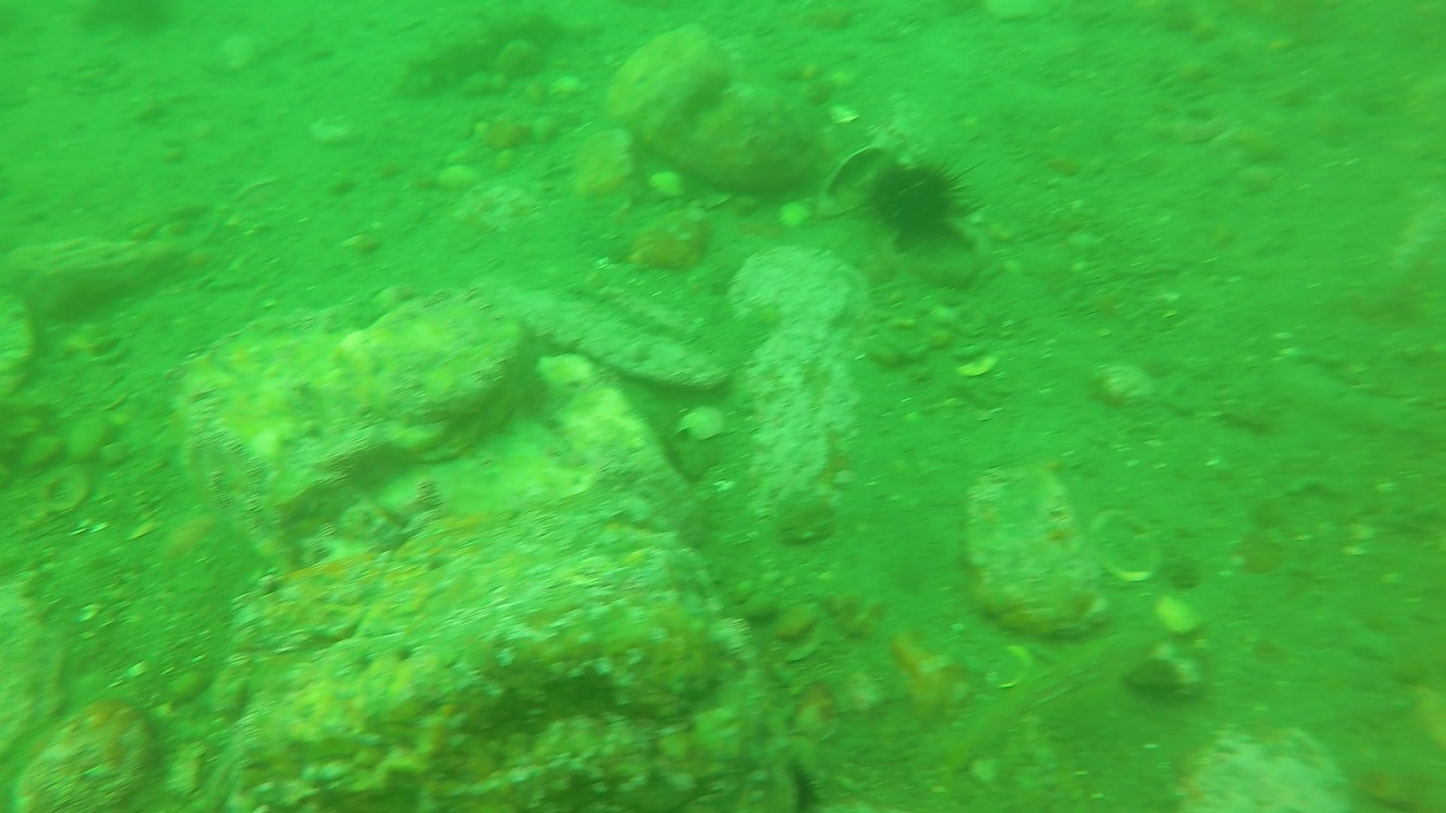echinus: (393, 15, 565, 90)
scallop: (1087, 508, 1164, 590)
starfish: (855, 160, 975, 251)
